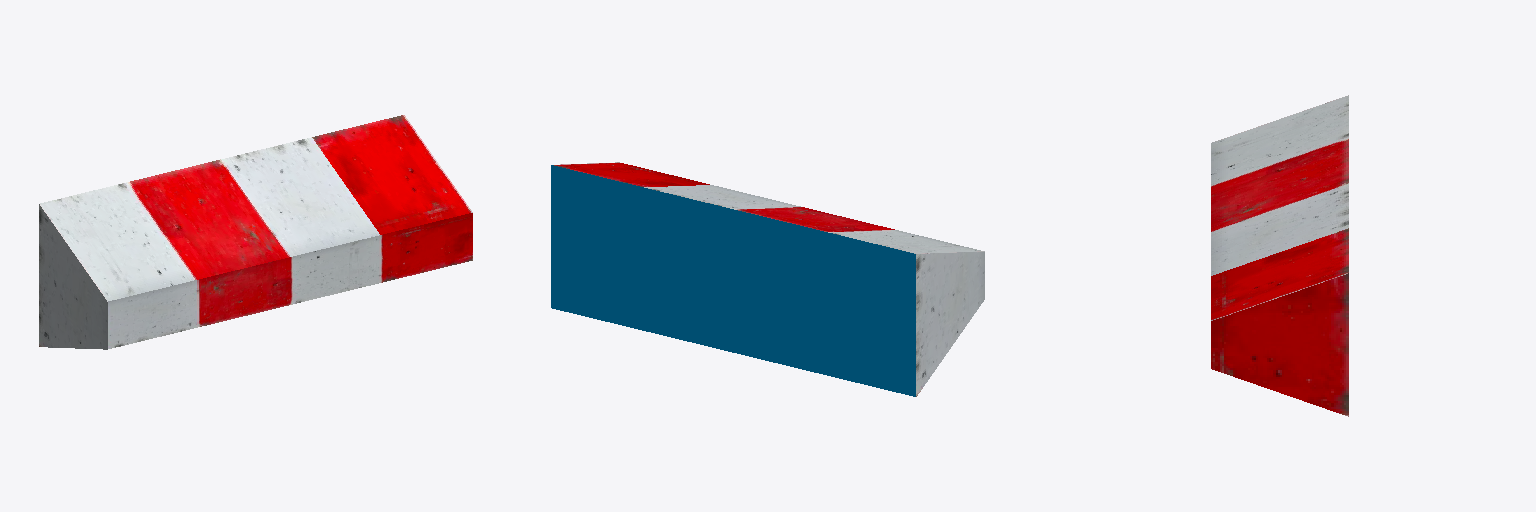
3 renders of one model, left to right at view 1: azimuth 30°, elevation 25°; view 2: azimuth 150°, elevation 25°; view 3: azimuth 270°, elevation 25°, orthographic.
Visible parts, largest first — view 1: Object.1; view 2: Object.1; view 3: Object.1.
Boxes of the visible parts, box(x1,y1,x2,y2) form: Object.1: box(39, 115, 472, 349); Object.1: box(551, 162, 984, 396); Object.1: box(1211, 95, 1348, 416).
Size of the model in its own units: 80 by 30 by 26.
2 materials, 1 textured.